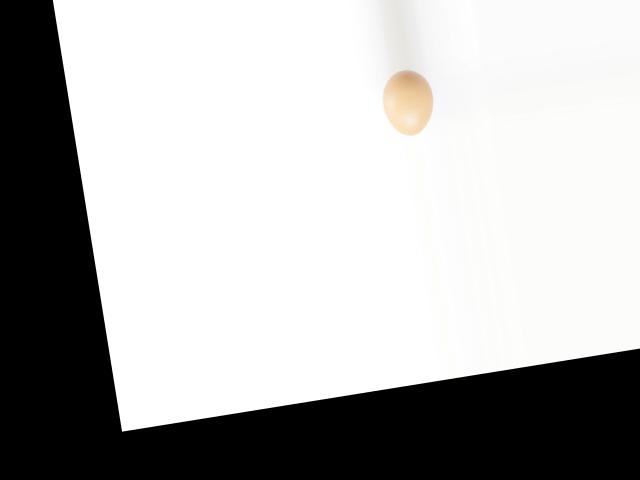egg: (379, 66, 439, 138)
